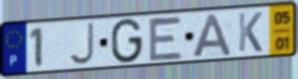1: (28, 26, 46, 68)
A: (191, 12, 234, 58)
E: (147, 15, 185, 63)
G: (109, 17, 145, 65)
J: (67, 21, 96, 67)
K: (236, 11, 264, 54)
